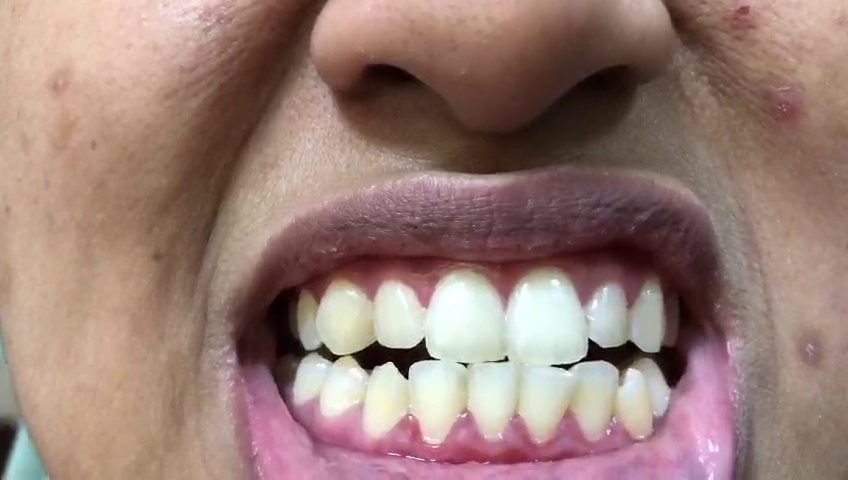1st Premolar: (321, 351, 367, 421), (633, 357, 671, 420), (295, 284, 321, 349)
2nd Premolar: (290, 350, 332, 418)
Canine: (319, 275, 376, 357), (358, 362, 408, 444), (616, 367, 656, 442), (632, 274, 666, 354)
Central Incisor: (505, 267, 590, 365), (424, 267, 505, 362), (518, 364, 569, 443), (470, 360, 520, 439)
Lateral Incisor: (410, 359, 468, 447), (568, 362, 619, 445), (582, 272, 633, 349), (377, 279, 427, 348)
